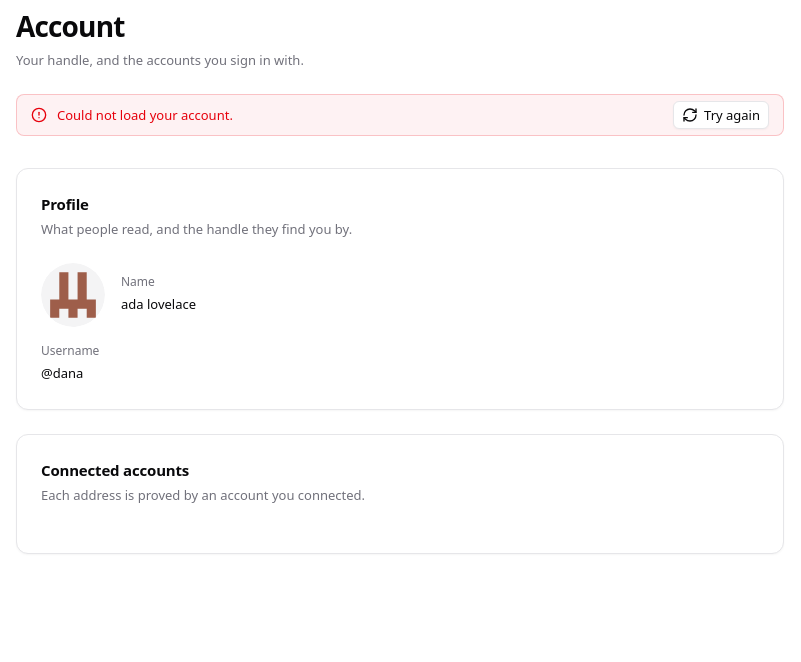
Test: a failed read offers a retry, not every provider to connect
Expected: the text "Could not load your account." is shown, [57,106,233,124]
Click the button "Try again" at (721, 115), box [673,101,769,129]
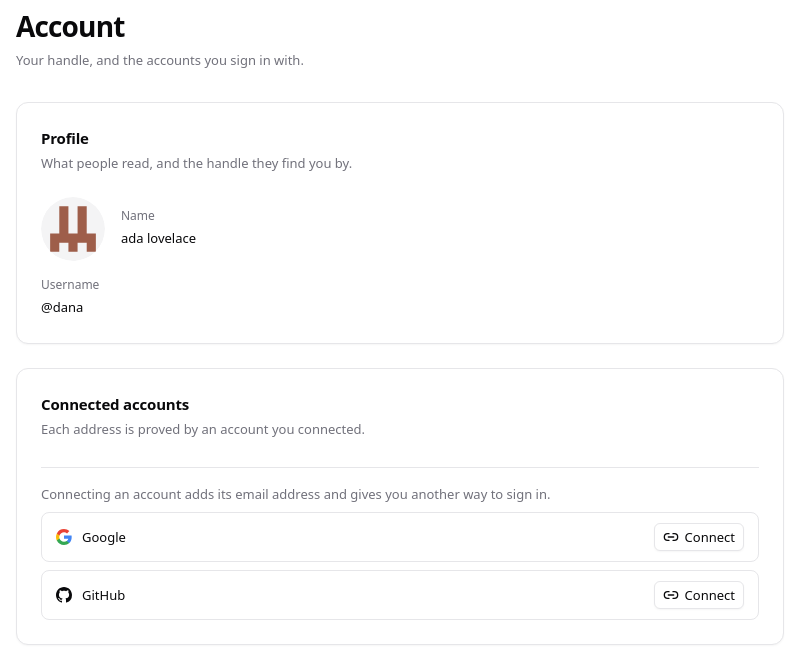
Expected: the text "Could not load your account." is gone
Expected: the number of buttons "Connect" is 2, [654,523,744,551]; [654,581,744,609]
